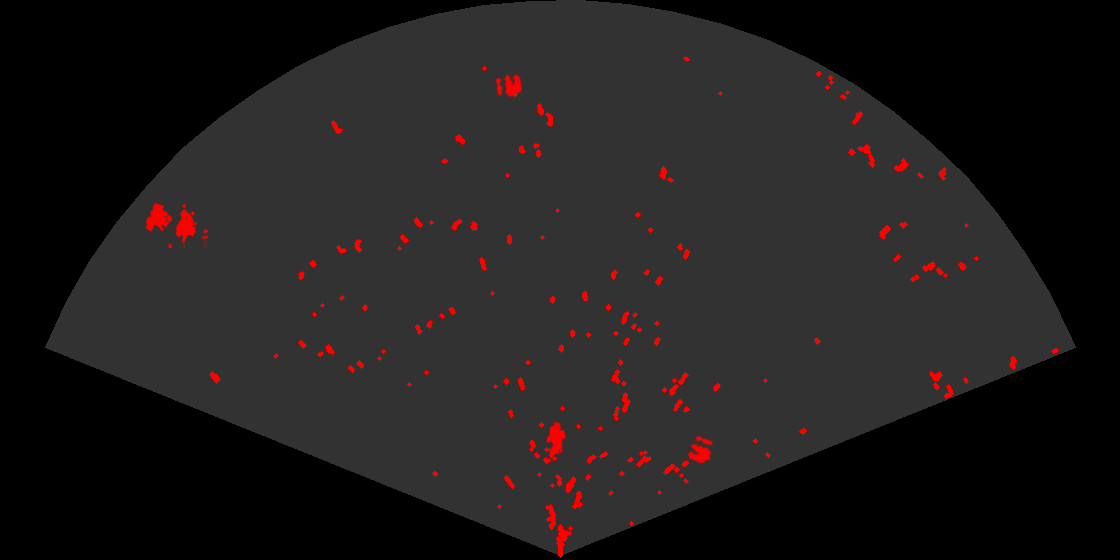AUV: (545, 420, 568, 460)
ball: (686, 434, 715, 465), (494, 72, 524, 99)
cage: (144, 201, 208, 248)
